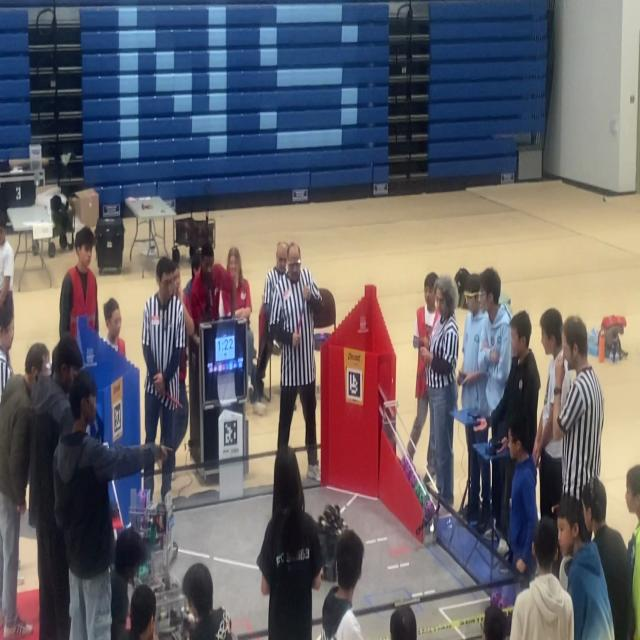artifact_purple: (424, 499, 435, 522), (490, 590, 500, 606), (419, 485, 426, 505), (498, 596, 508, 609), (409, 474, 417, 490), (401, 456, 409, 472), (414, 481, 420, 500), (404, 467, 413, 478), (400, 457, 405, 469)
